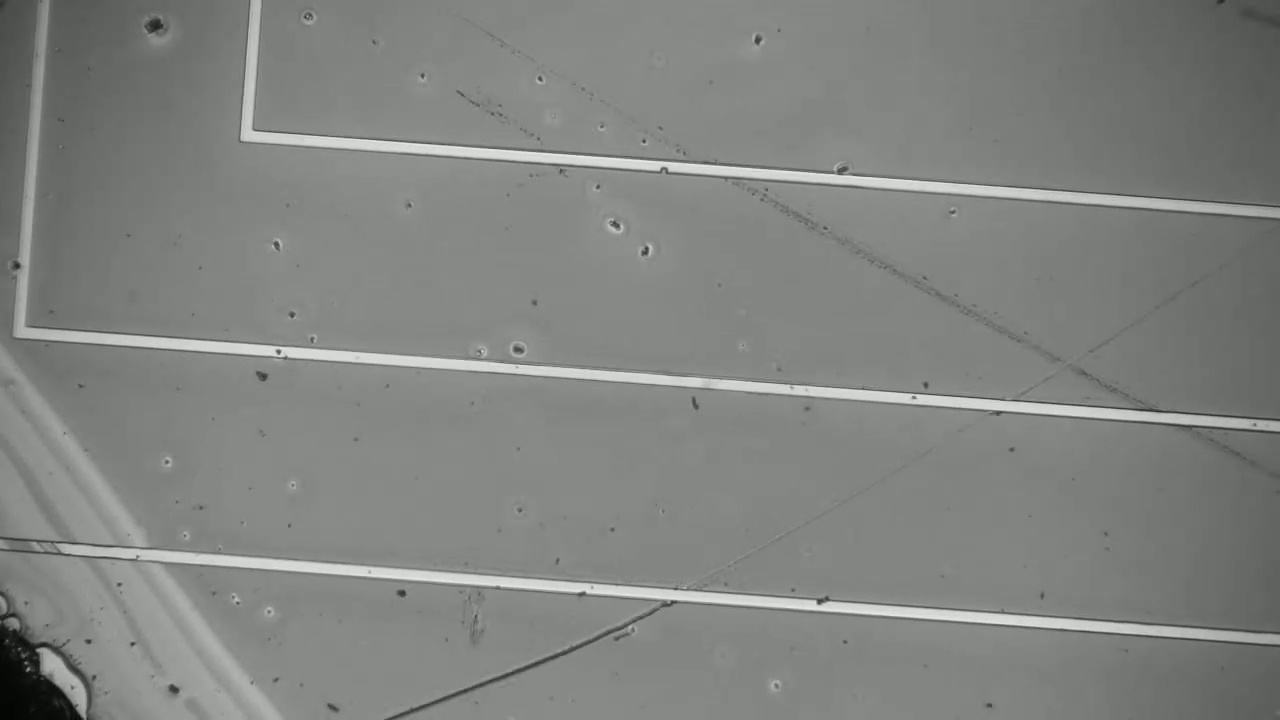edge_bite: (656, 153, 677, 180)
gray_line: (0, 526, 73, 566)
scratch: (470, 20, 1272, 473), (689, 280, 1193, 585), (387, 606, 669, 720)
stains_enbedded: (804, 588, 837, 619), (3, 255, 36, 281)
